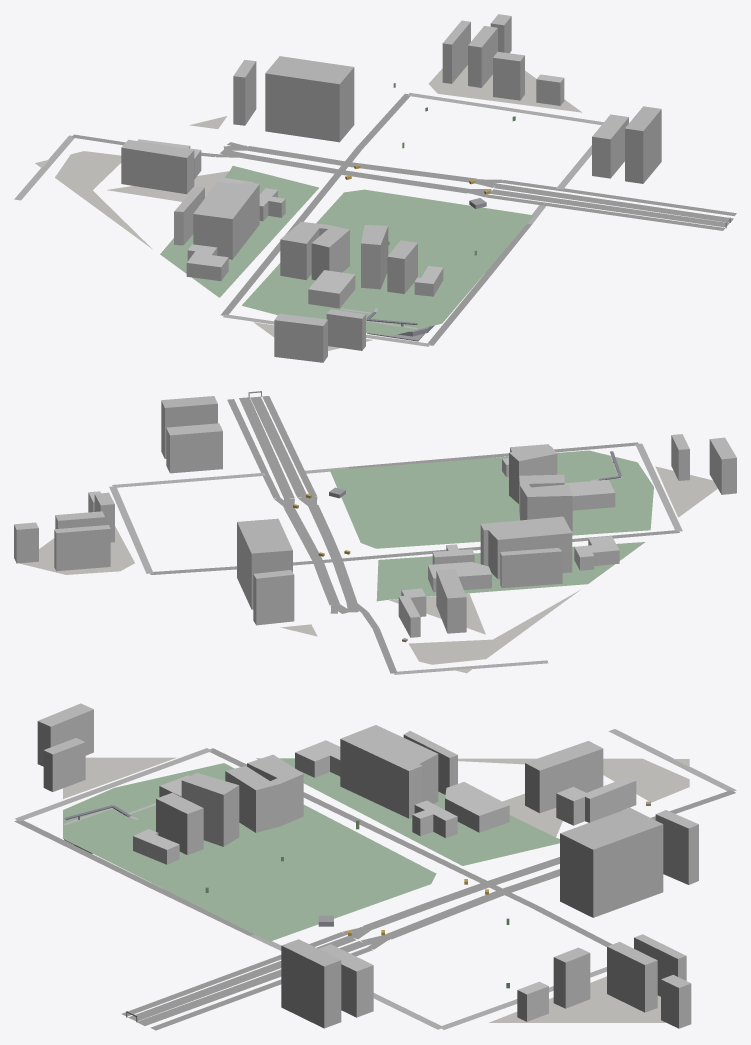
The picture shows the model from 3 angles, top to bottom: view 1: azimuth 30°, elevation 25°; view 2: azimuth 150°, elevation 25°; view 3: azimuth 270°, elevation 25°; orthographic projection. The views are drawn at different scales.
Bounding box in the file's own units: 571 × 72.72 × 577.
